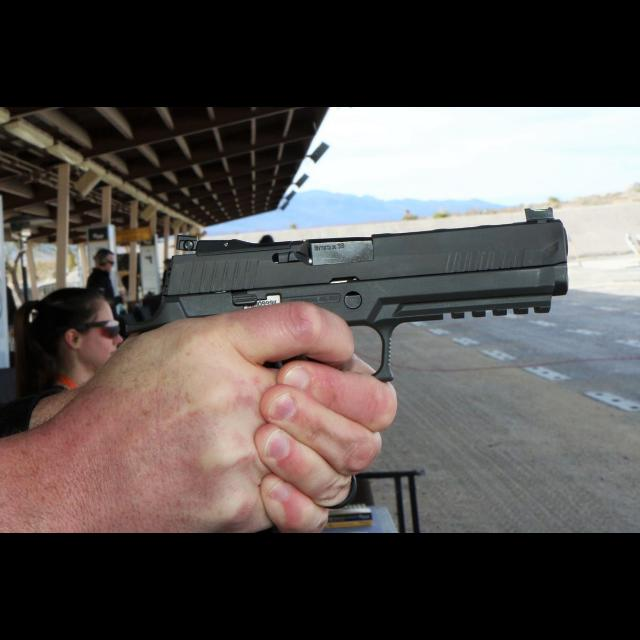handgun: (123, 204, 572, 386)
